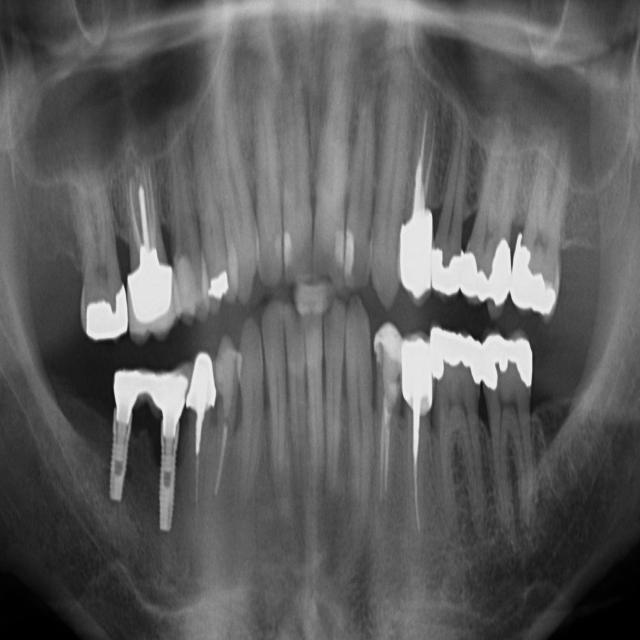dolgu: (368, 319, 408, 363), (204, 267, 238, 305), (336, 229, 358, 280), (280, 224, 297, 268)
implant: (140, 362, 188, 530), (114, 350, 146, 513)
kanal-tedavisi: (122, 153, 164, 273), (399, 399, 438, 521), (408, 99, 438, 234), (369, 376, 397, 506), (185, 405, 213, 507), (213, 416, 235, 506)
kaplama: (120, 256, 174, 324), (516, 245, 563, 318), (400, 214, 433, 297), (484, 336, 534, 389), (429, 329, 483, 377), (400, 340, 436, 411), (85, 285, 131, 340), (466, 249, 507, 306), (184, 351, 222, 408), (429, 239, 463, 302)
